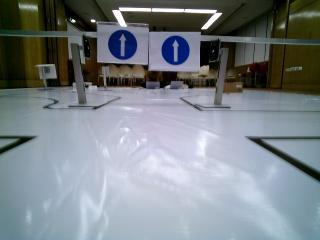straight: (149, 29, 200, 71), (98, 22, 146, 65)
